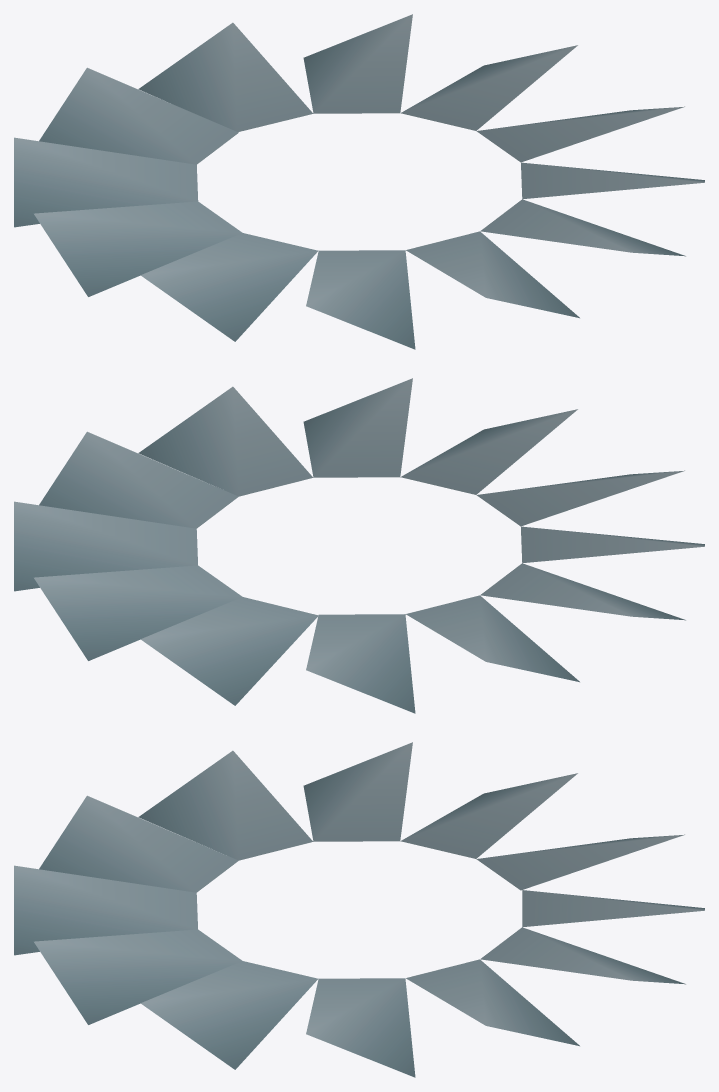
The model's file is Ventilation_017.fbx.
3 renders of one model, top to bottom at view 1: azimuth 30°, elevation 25°; view 2: azimuth 150°, elevation 25°; view 3: azimuth 270°, elevation 25°, orthographic.
Visible parts, largest first — view 1: Ventilation_017; view 2: Ventilation_017; view 3: Ventilation_017.
Part boxes in pixels (<box>): Ventilation_017: <box>14,14,704,349</box>; Ventilation_017: <box>14,378,704,713</box>; Ventilation_017: <box>14,742,704,1077</box>.
Size of the model in its own units: 68.68 by 68.68 by 4.79.
